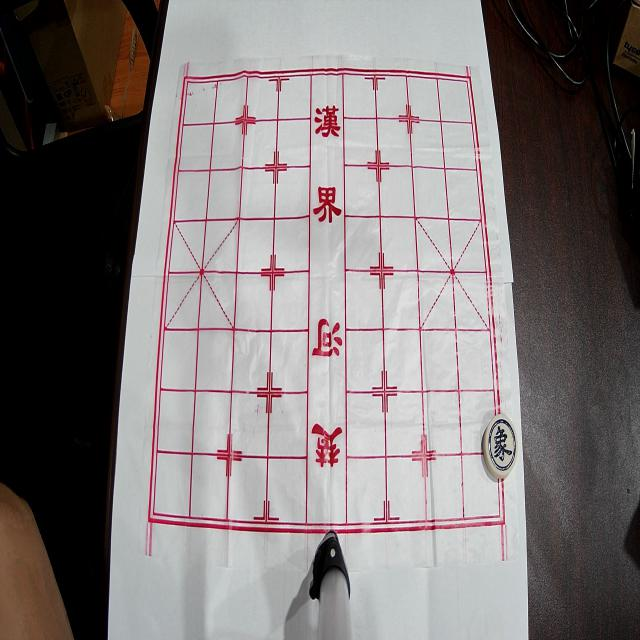black-elephant: (482, 414, 518, 478)
